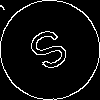S: (25, 25, 78, 82)
